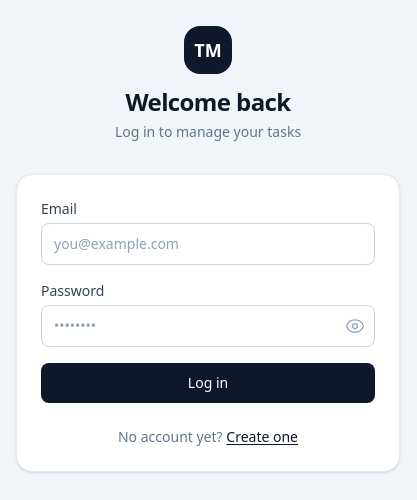
LoginPage › rejects an invalid email format
Type "not-an-email" into the field labelled "Email" at (208,244), box [41,223,375,265]
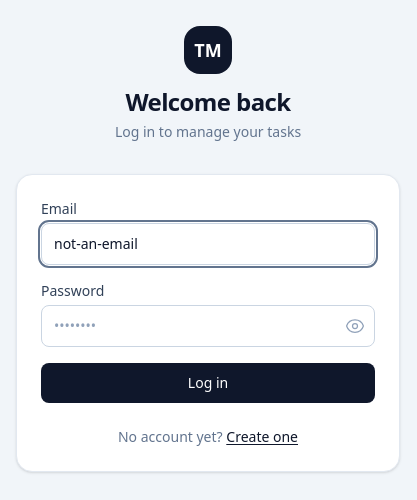
Type "password123" into the password field labelled "Password" at (208,326), box [41,305,375,347]
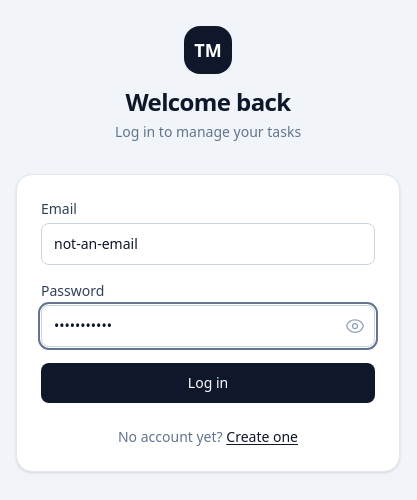
Click the button "Log in" at (208,383), box [41,363,375,403]
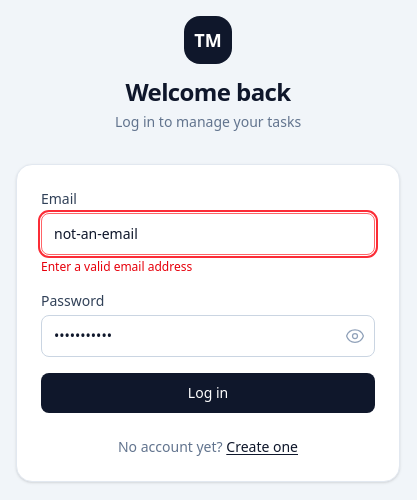
Check: the text "Enter a valid email address" is shown, box [41,258,192,275]
